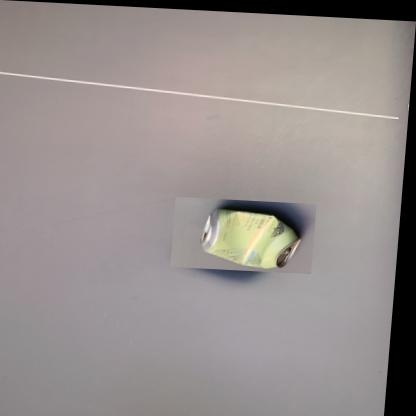trash: (201, 209, 300, 268)
